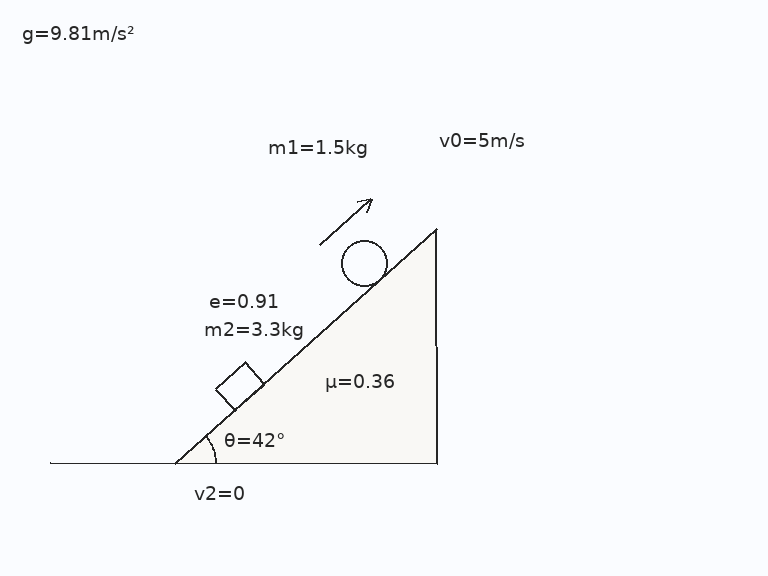ball: (339, 238, 389, 288)
block: (213, 361, 266, 412)
ramp: (174, 227, 437, 465)
